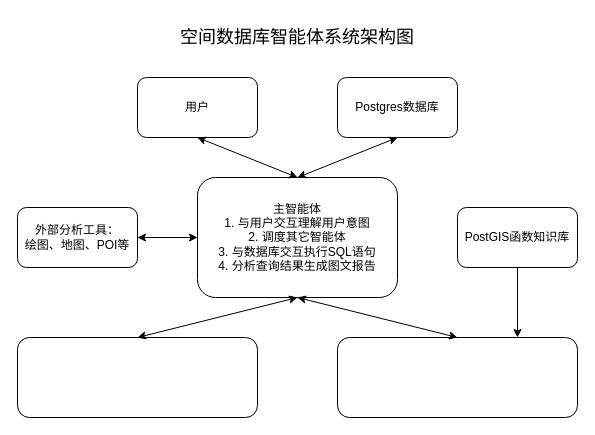
This 595x435 diagram has some shape labels left out. Here are the shapes that lost their labels. From the top down, the centre of each, then its label:
At point (137, 377): "从智能体1 1. 理解数据库结构 2. 维护数据库的表与字段的含义 3. 根据用户意图生成裁剪后的数据库模式表 4. 将裁剪后的模式表返回给主智能体".
At point (457, 377): "从智能体2 1. 根据裁剪后的模式表理解一部分数据库 2. RAG检索PostGIS函数用法 3. 生成SQL语句并审查 4. 将SQL语句返回主智能体".
